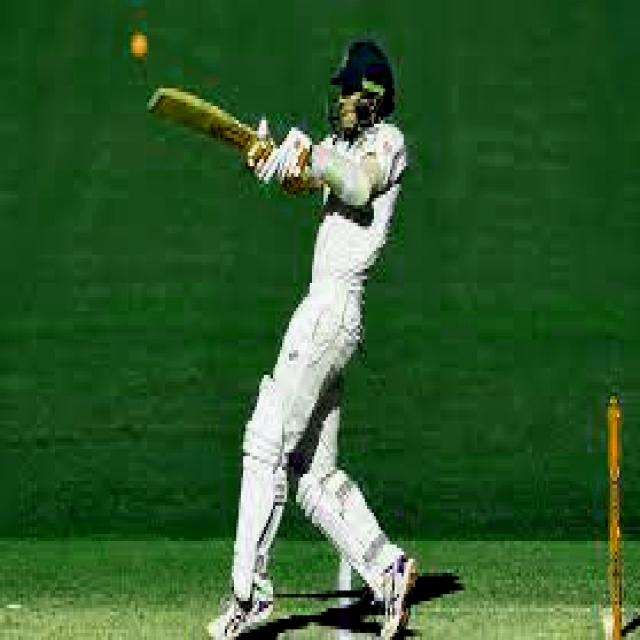toe: (141, 85, 171, 116)
